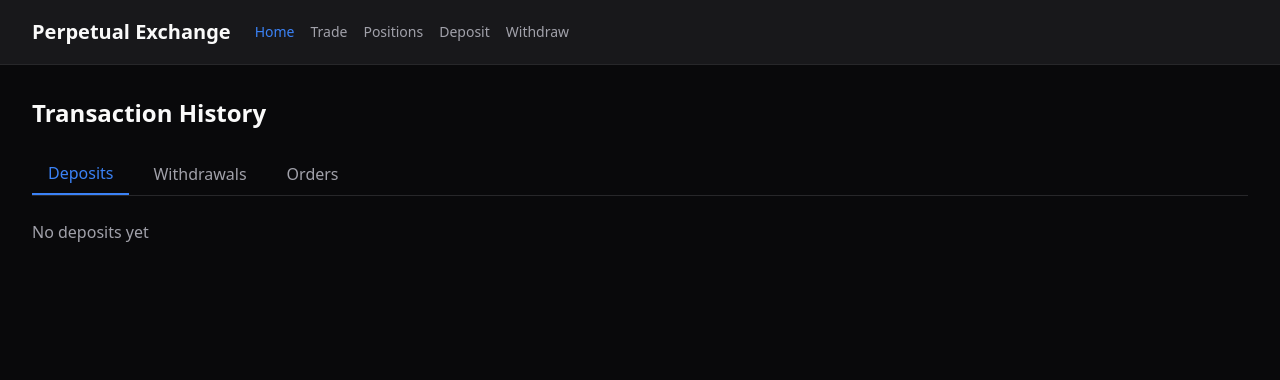
Test case: TransactionsPage › should display orders table when data is loaded
Click the button "Orders".
click(313, 174)  # box [271,153,354,195]
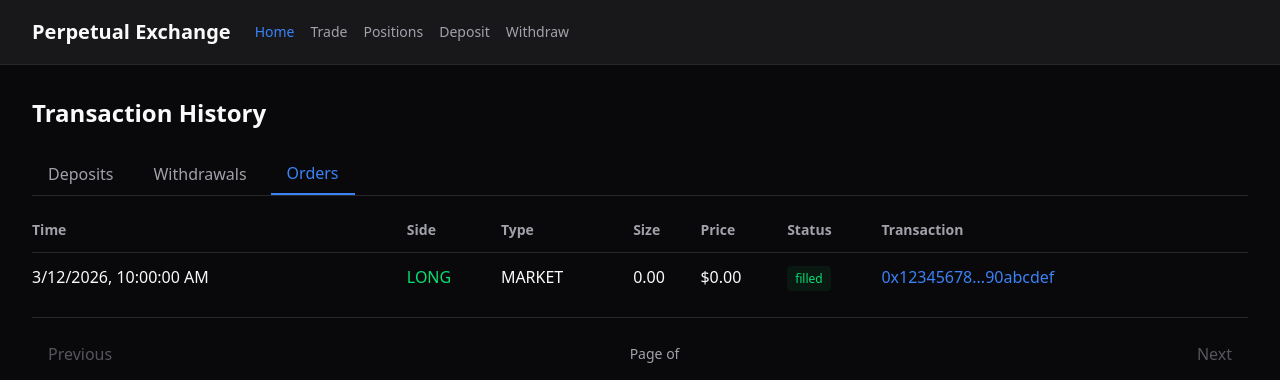
Check: the text "LONG" is shown, box [407,266,451,288]
Check: the text "filled" is shown, box [787,266,831,291]
